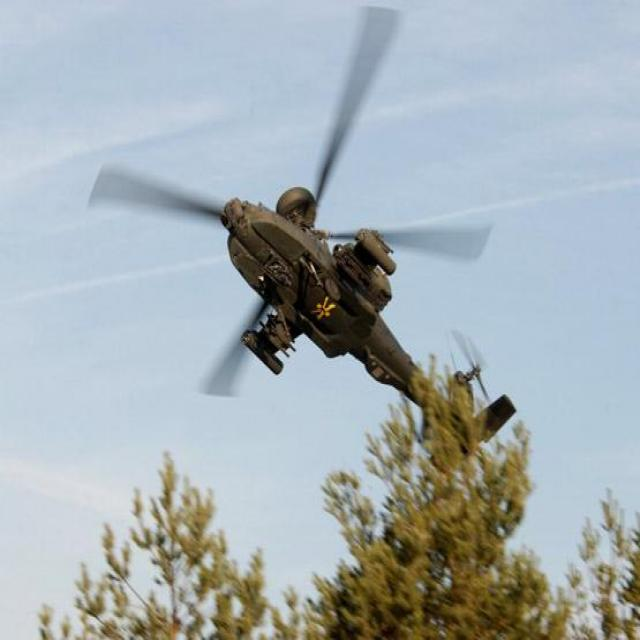MIL_HELO: (70, 6, 526, 456)
